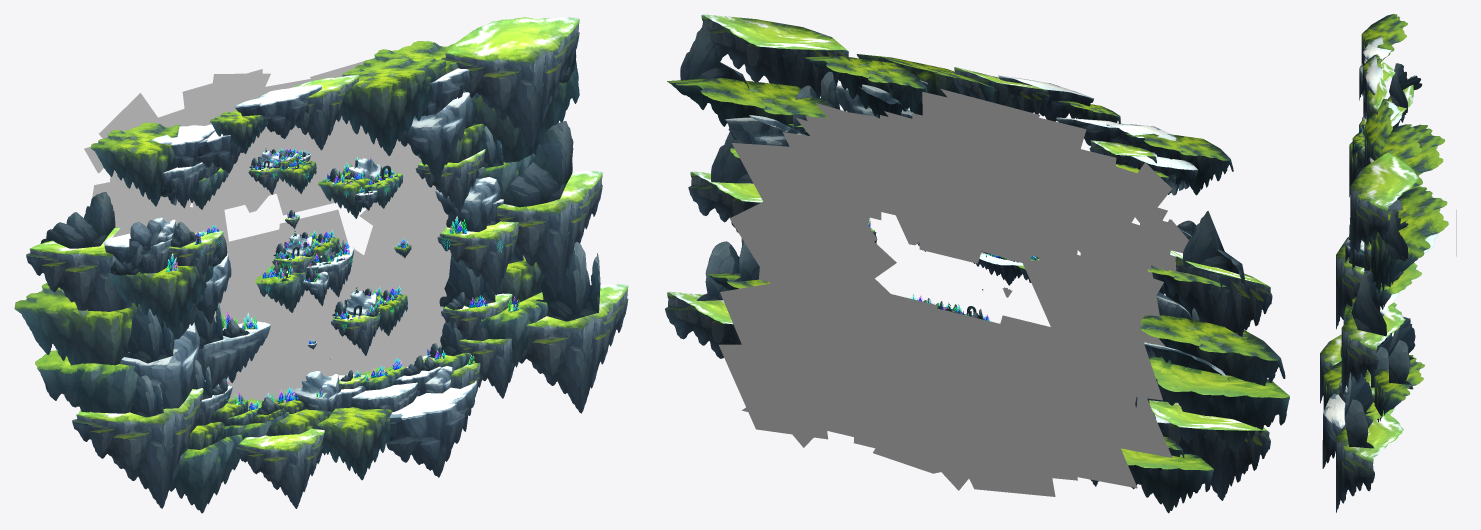
The model's file is Level7_Export.fbx.
3 renders of one model, left to right at view 1: azimuth 30°, elevation 25°; view 2: azimuth 150°, elevation 25°; view 3: azimuth 270°, elevation 25°, orthographic. The views are drawn at different scales.
Parts seen in each view (by area): view 1: Active, Mid, Background, Far, Plane.487, Plane.268, Island2_Active, Plane.494, Plane.489, Plane.503, Plane.495, Plane.468 (+39 smaller); view 2: Far, Active, Background, Mid, Plane.489, Plane.487, Plane.475, Plane.496, Plane.503, Plane.322, Plane.504, Plane.506 (+11 smaller); view 3: Active, Plane.505, Plane.483, Plane.491, Plane.482, Plane.487, Plane.268, Plane.503, Plane.494, Plane.475, Plane.506, Plane.504 (+13 smaller).
Boxes of the visible parts, box(x1,y1,x2,y2) form: Active: box(14, 17, 628, 413); Mid: box(112, 116, 524, 400); Background: box(111, 88, 439, 375); Far: box(84, 58, 401, 320); Plane.487: box(72, 380, 205, 508); Plane.268: box(339, 58, 446, 155); Island2_Active: box(255, 229, 354, 312); Plane.494: box(386, 380, 476, 477); Plane.489: box(35, 349, 138, 413); Plane.503: box(91, 122, 181, 206); Plane.495: box(235, 428, 325, 508); Plane.468: box(106, 265, 213, 334); Far: box(719, 118, 1162, 496); Active: box(665, 14, 1285, 416); Background: box(729, 103, 1172, 488); Mid: box(758, 89, 1188, 346); Plane.489: box(1148, 357, 1289, 451); Plane.487: box(1149, 400, 1270, 500); Plane.475: box(804, 56, 927, 118); Plane.496: box(1121, 448, 1213, 513); Plane.503: box(1126, 133, 1233, 195); Plane.322: box(953, 67, 1049, 114); Plane.504: box(1182, 211, 1247, 291); Plane.506: box(680, 24, 749, 89); Active: box(1336, 58, 1448, 512); Plane.505: box(1344, 372, 1374, 448); Plane.483: box(1374, 355, 1424, 422); Plane.491: box(1351, 270, 1386, 344); Plane.482: box(1389, 316, 1415, 389); Plane.487: box(1336, 237, 1364, 329); Plane.268: box(1364, 99, 1393, 166); Plane.503: box(1361, 14, 1407, 63); Plane.494: box(1322, 393, 1345, 468); Plane.475: box(1375, 124, 1423, 164); Plane.506: box(1384, 210, 1408, 260); Plane.504: box(1389, 63, 1422, 114).
Bounding box in the file's own units: 36639 × 23371 × 9074.
